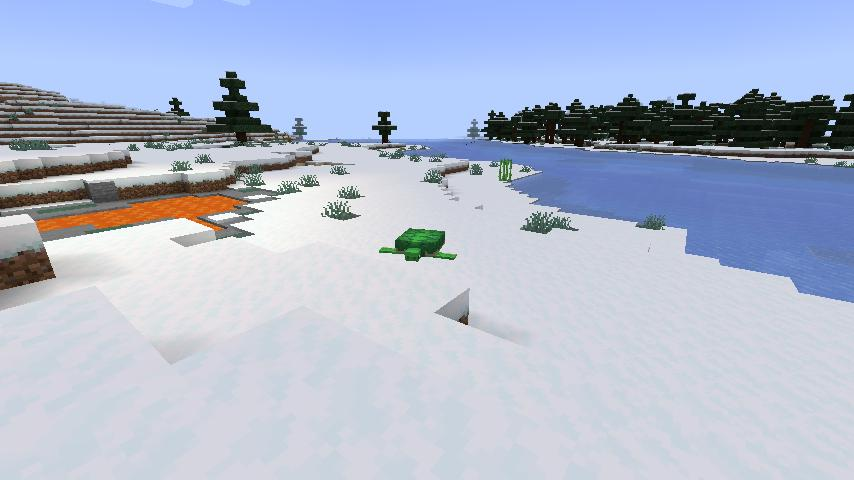turtle: (378, 225, 459, 267)
